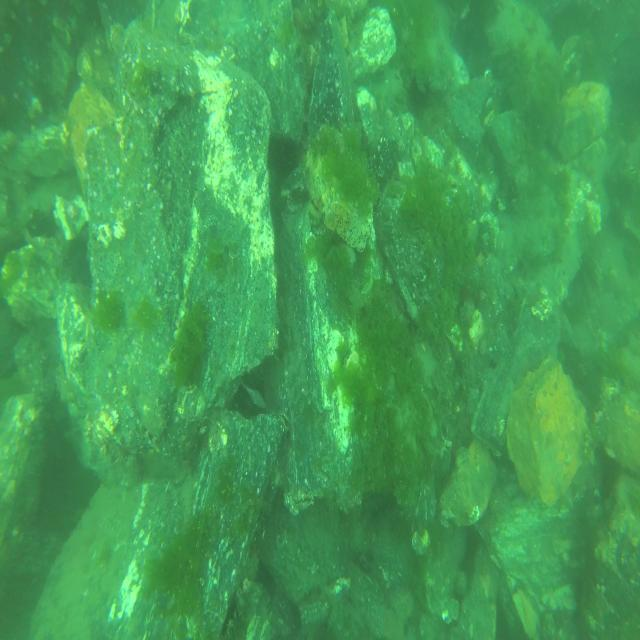echinus: (268, 131, 302, 179)
